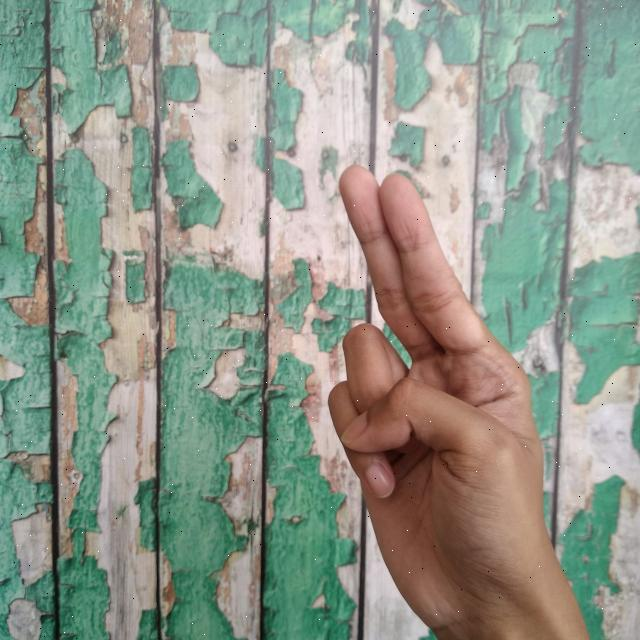U: (318, 155, 595, 640)
